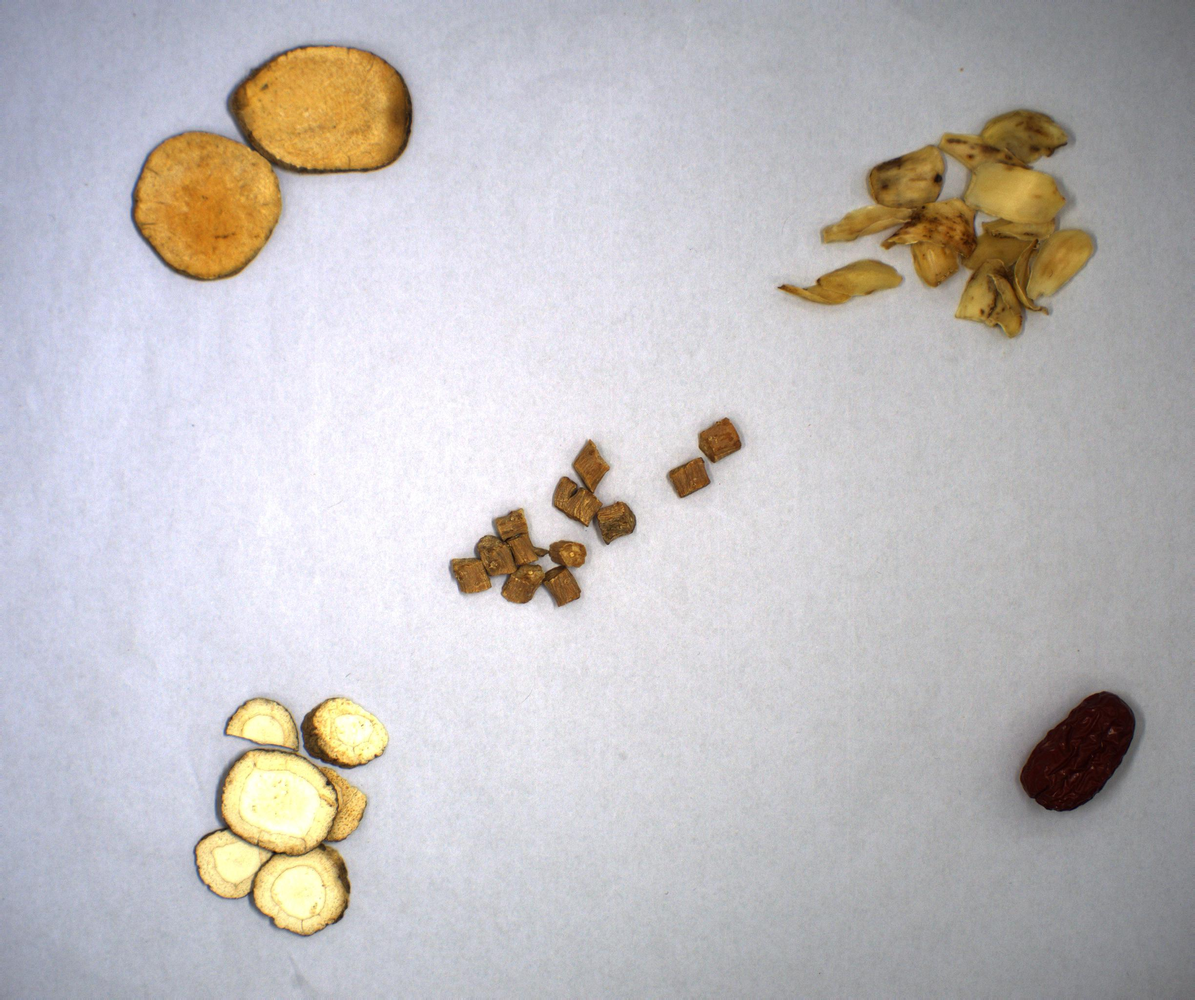baihe: (770, 90, 1138, 370)
baizhi: (146, 660, 480, 967)
dazao: (1014, 676, 1150, 862)
niuxi: (363, 416, 820, 647)
zexie: (96, 48, 477, 306)
